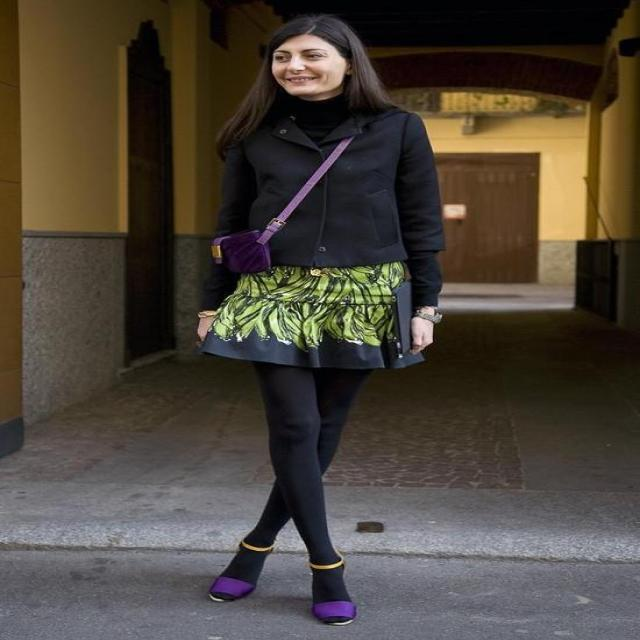skirt: (199, 259, 425, 370)
sweater: (216, 91, 447, 269)
